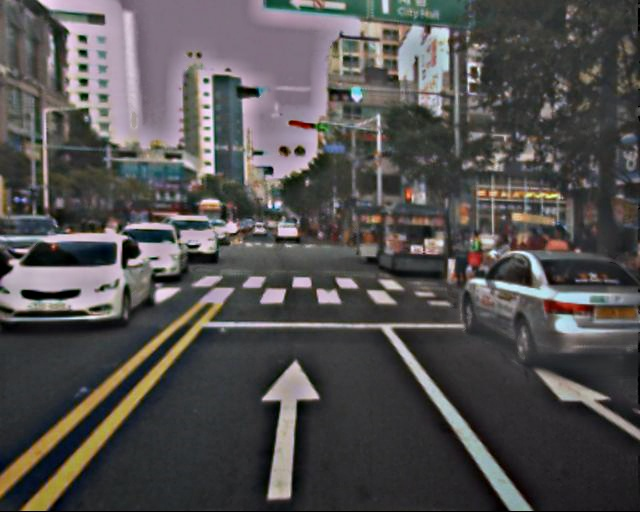person: (497, 222, 599, 259), (463, 230, 488, 291), (449, 232, 471, 287)
